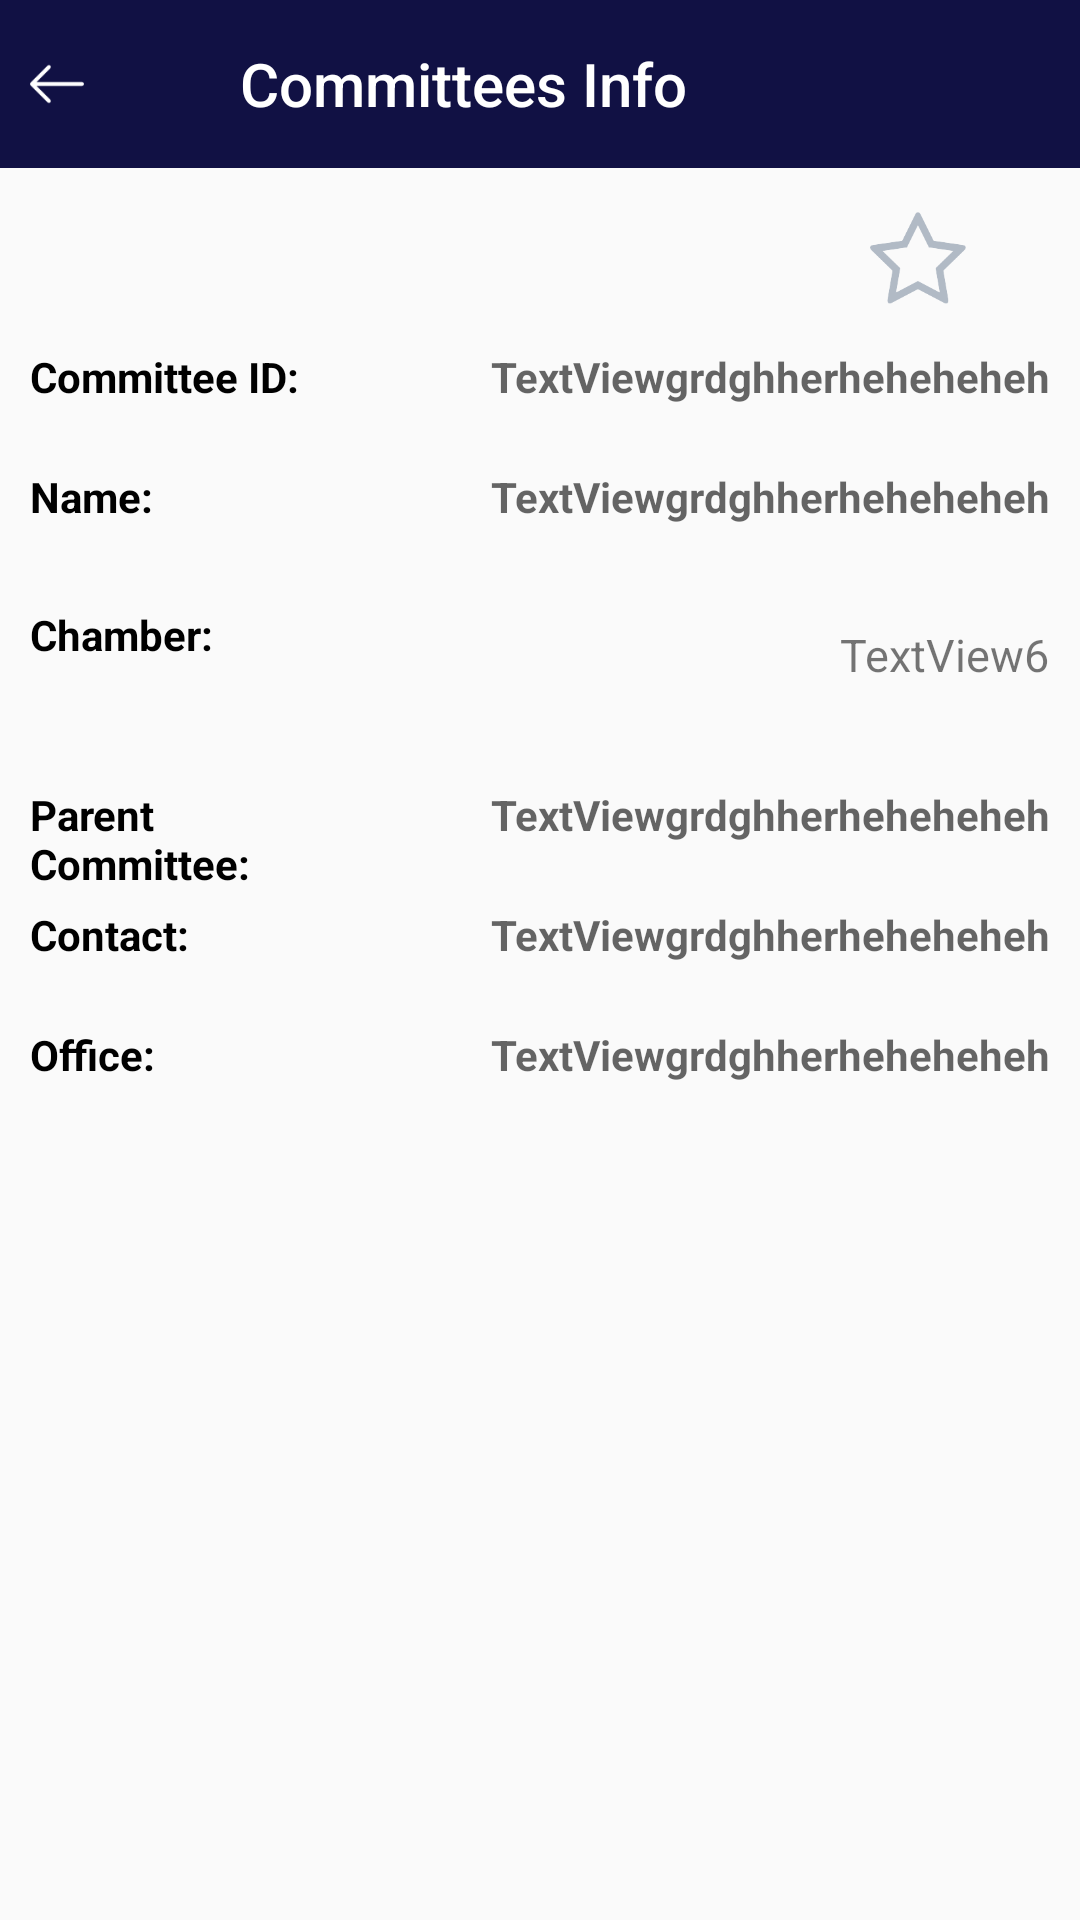

Named icons in this screenshot (1080×1920) and their centers, (x=x, y=y):
fav: (x=918, y=257)
left: (x=57, y=84)
